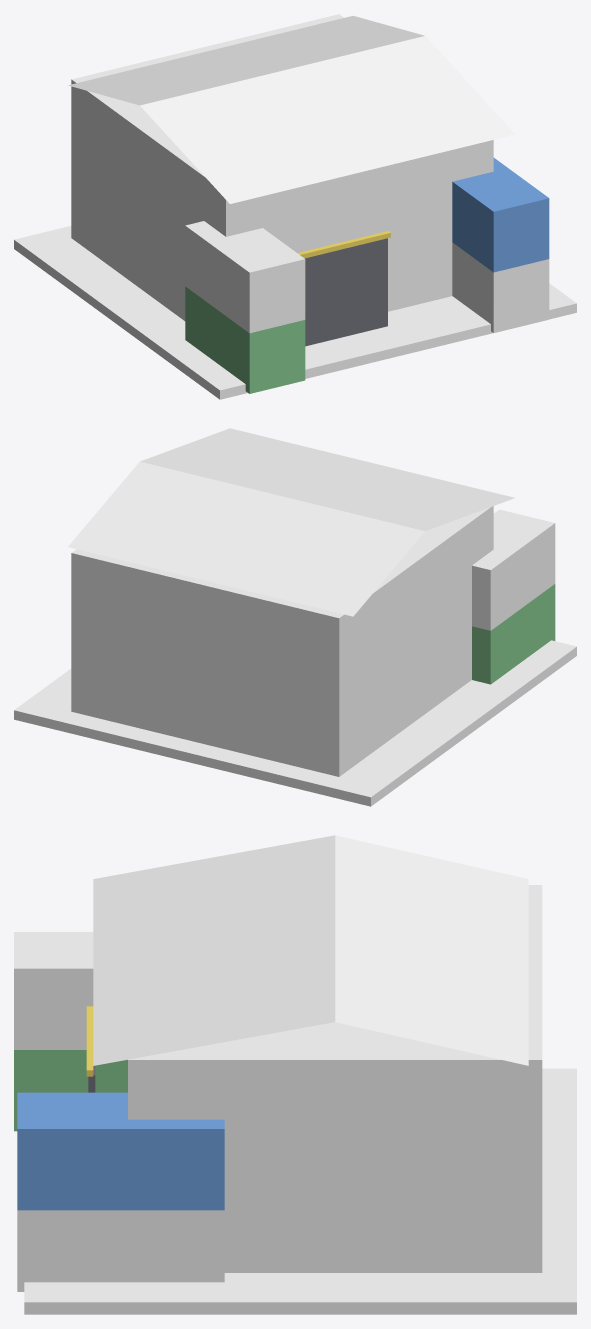
Rendered from warehouse.glb.
3 views of the same model, one above another, from view 1: azimuth 30°, elevation 25°; view 2: azimuth 150°, elevation 25°; view 3: azimuth 270°, elevation 25° (orthographic). The views are drawn at different scales.
Parts seen in each view (by area): view 1: warehouse; view 2: warehouse; view 3: warehouse.
Boxes of the visible parts, x1,y1,x2,y2 form: warehouse: (14,14,576,399); warehouse: (14,428,576,806); warehouse: (14,835,576,1314).
Size of the model in its own units: 16 by 8.6 by 16.3.
